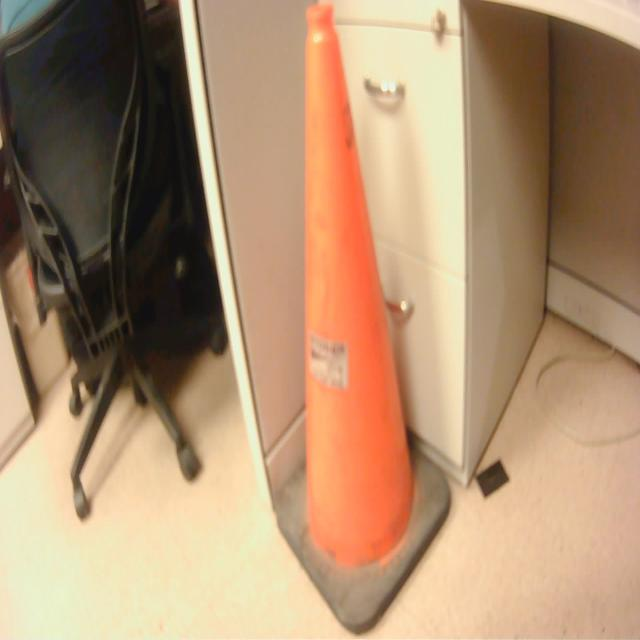traffic cone: (270, 1, 464, 640)
